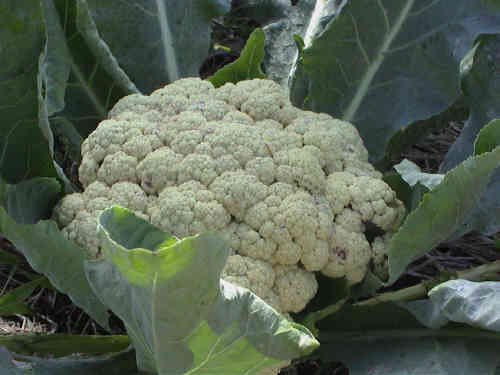cauliflower: (48, 75, 406, 334)
